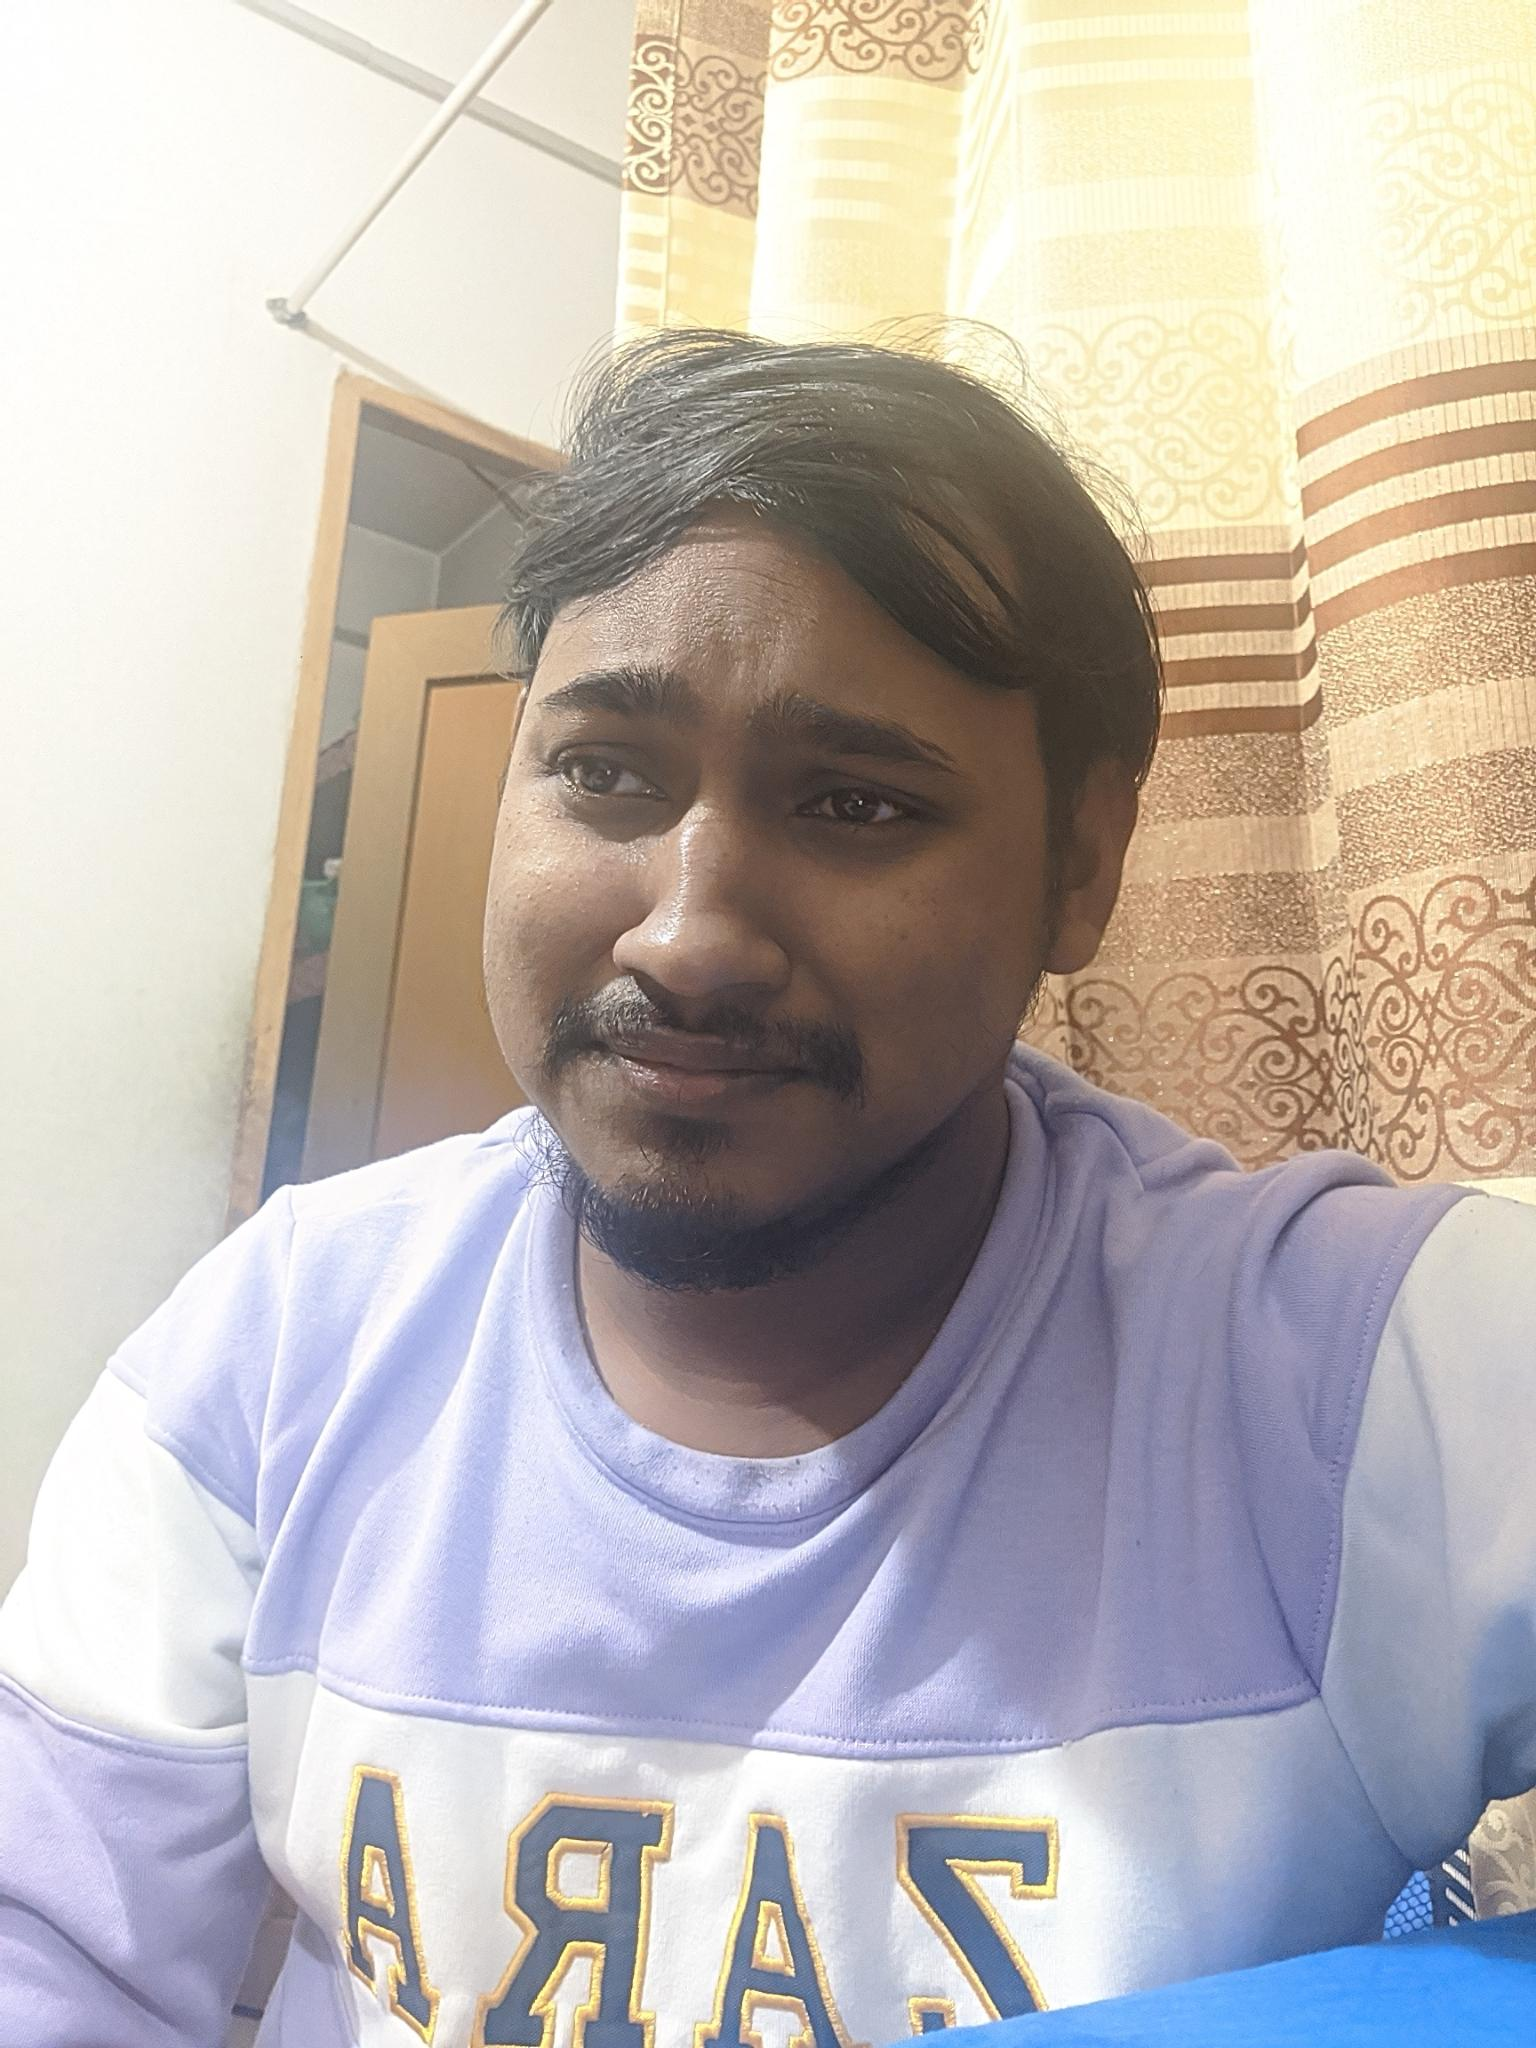Sad: (495, 610, 999, 1222)
